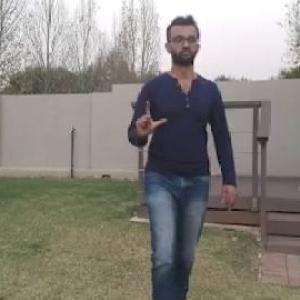land_hand: (128, 91, 170, 140)
